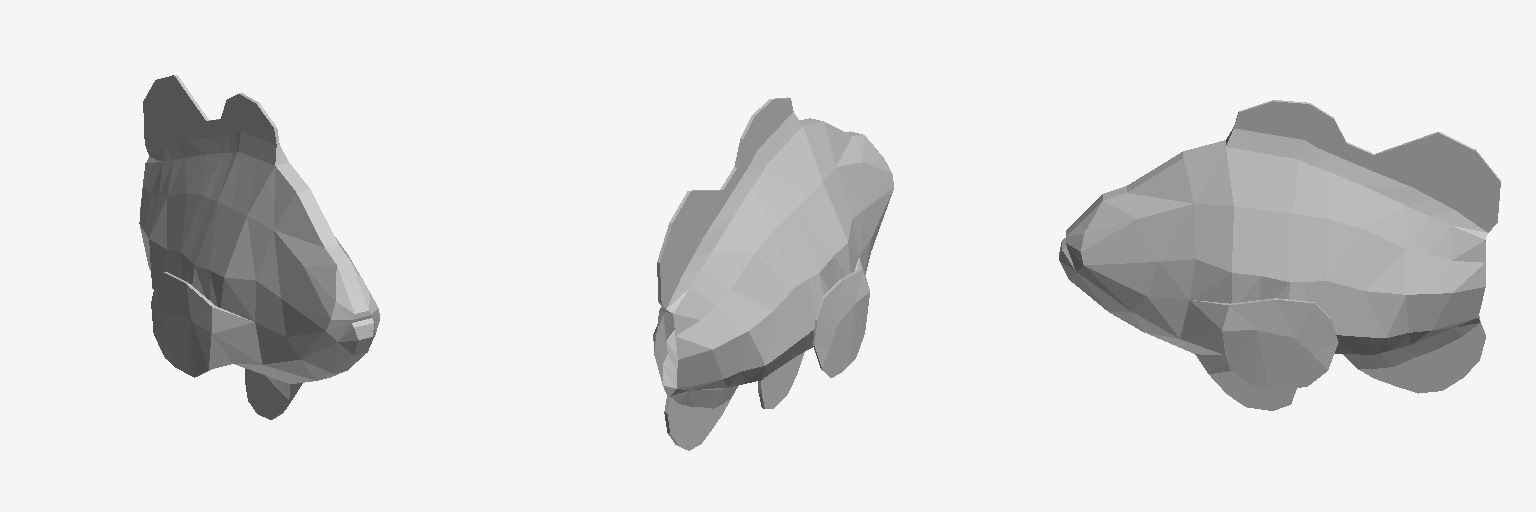
File: Cuerpo_Pez.obj
The picture shows the model from 3 angles: view 1: azimuth 30°, elevation 25°; view 2: azimuth 150°, elevation 25°; view 3: azimuth 270°, elevation 25°; orthographic projection.
Visible parts, largest first — view 1: Cuerpo_Pez_TropicalFish12; view 2: Cuerpo_Pez_TropicalFish12; view 3: Cuerpo_Pez_TropicalFish12.
Part boxes in pixels (x1,y1,x2,y2): Cuerpo_Pez_TropicalFish12: (139,75,379,419); Cuerpo_Pez_TropicalFish12: (653,97,893,450); Cuerpo_Pez_TropicalFish12: (1059,100,1500,410).
Bounding box in the file's own units: 1.13 × 2.14 × 2.76.